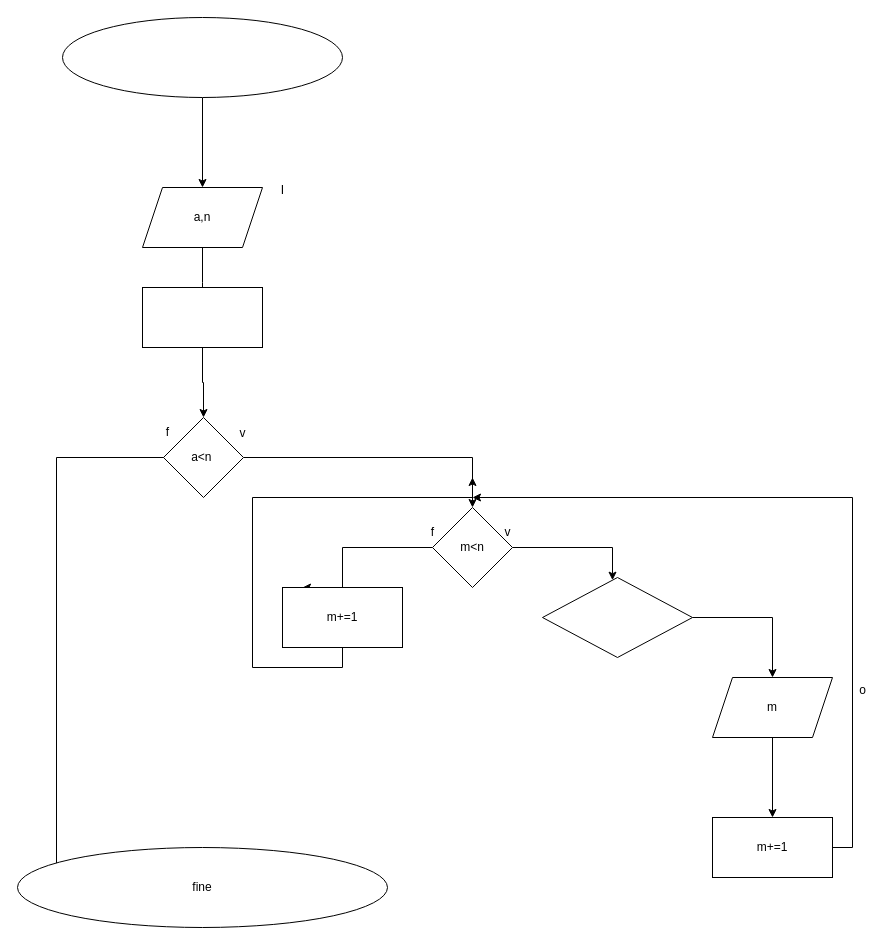
This 895x945 diagram has some shape labels left out. The centre of each missing label's shape, as x and y in pixels:
"INIZIO" belongs at (202,57).
"m = 0" belongs at (202,317).
"m%a==0 and m>=a" belongs at (617,617).
